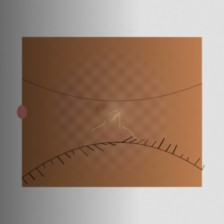corneal_ulcer: (84, 93, 144, 142)
